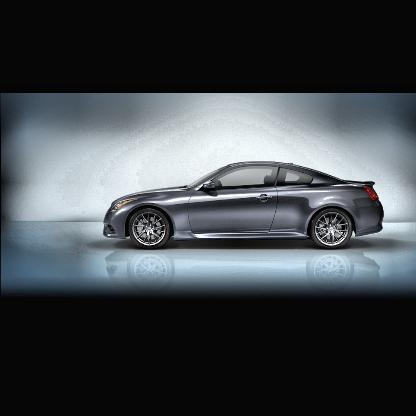Infiniti G Coupe IPL 2012: (103, 160, 387, 250)
